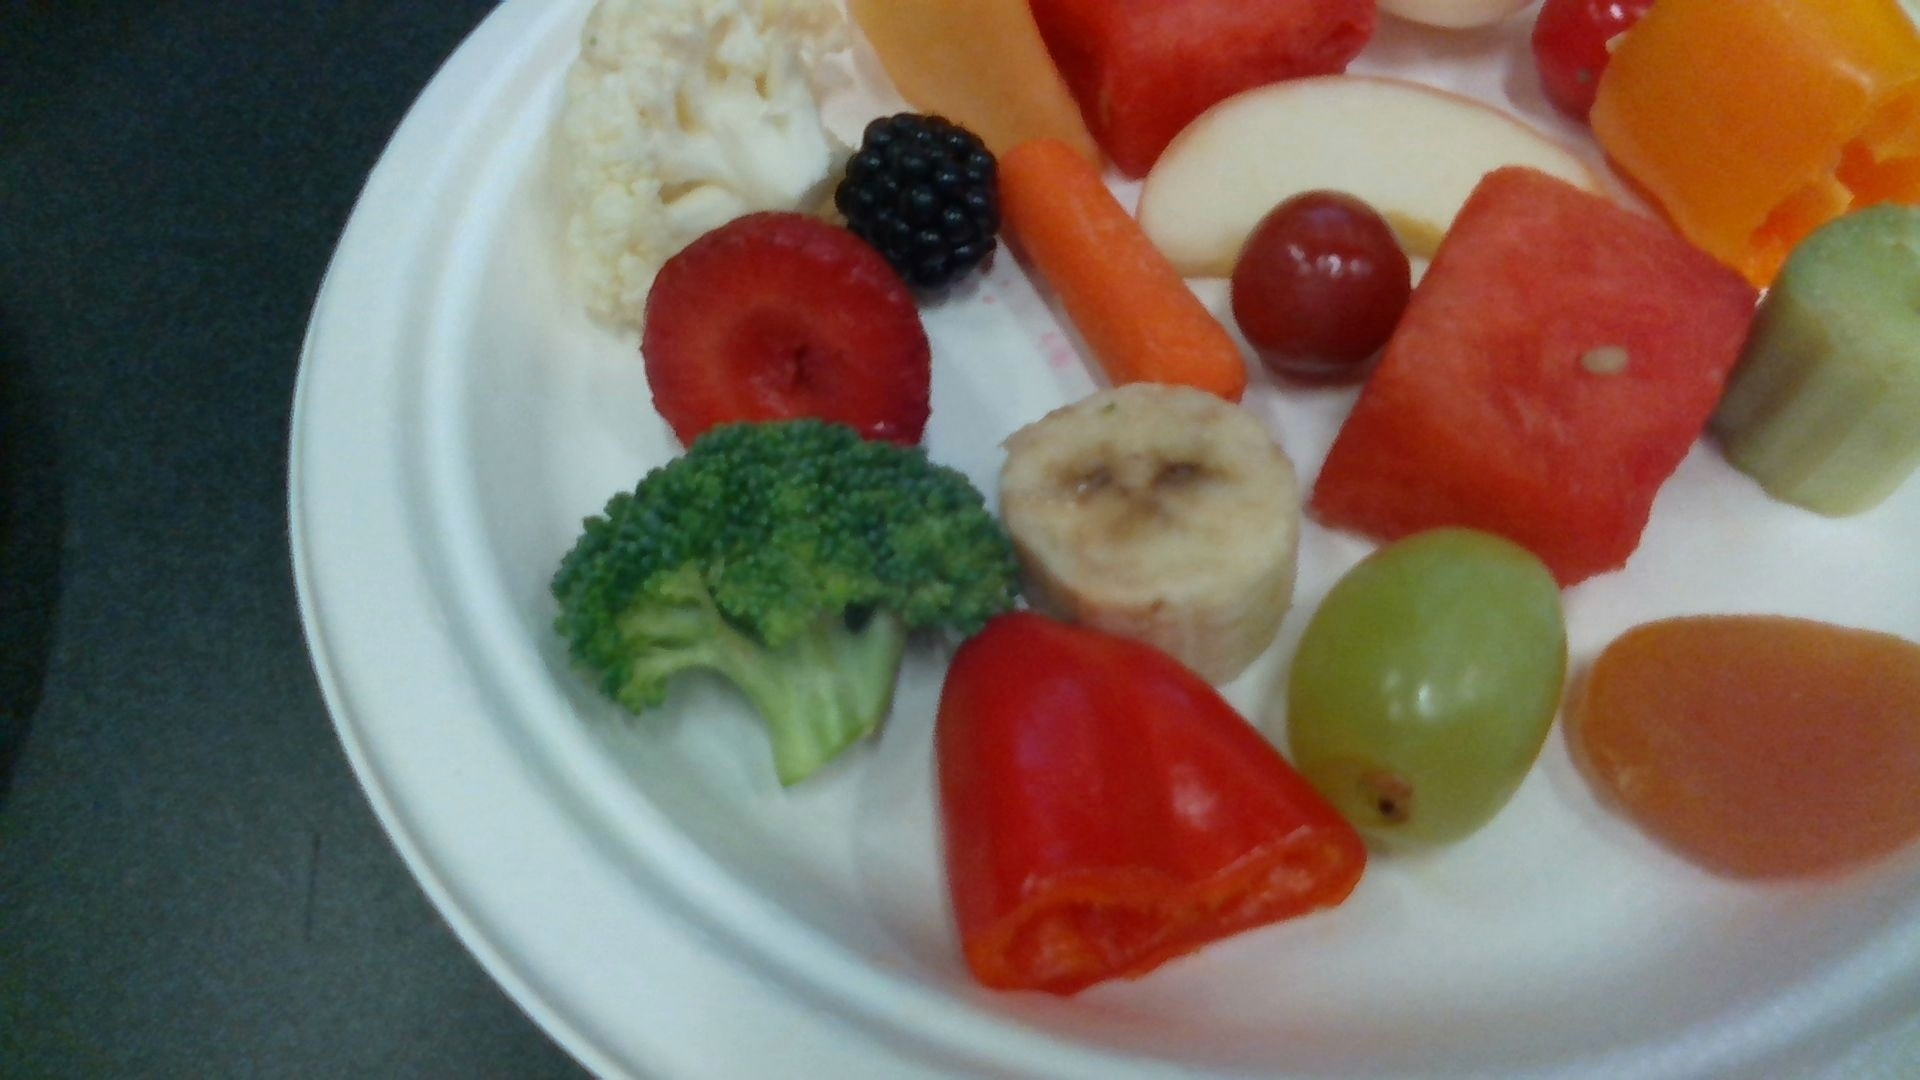apple: (1134, 83, 1600, 268)
apricot: (1586, 613, 1920, 876)
banana: (1000, 386, 1292, 683)
bell_pepper: (938, 616, 1364, 988), (1592, 1, 1919, 281)
blackberry: (837, 117, 1000, 291)
broccoli: (554, 423, 1021, 786)
carrot: (996, 146, 1245, 410)
cauliflower: (559, 1, 857, 323)
celery: (1717, 203, 1920, 514)
cherry_tomato: (1534, 1, 1654, 120)
grape_green: (1290, 530, 1564, 856)
grape_purple: (1232, 190, 1410, 376)
melon: (1312, 173, 1754, 585), (1039, 1, 1371, 167)
strawberry: (644, 215, 930, 462)
